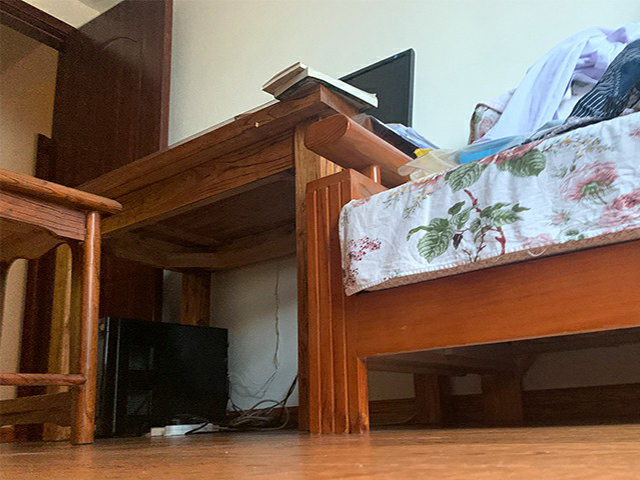sofa: (302, 26, 640, 437)
stool: (1, 167, 123, 446)
table: (71, 83, 356, 430)
wire: (171, 377, 298, 440)
